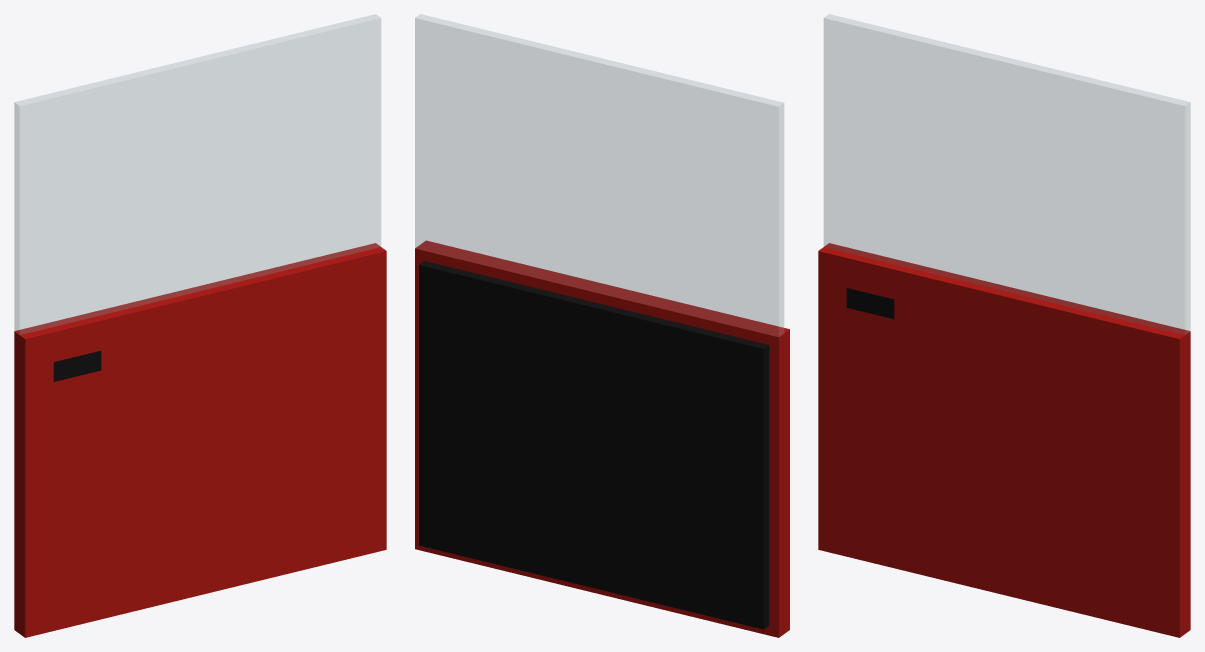
File: fire_engine_crew_door.glb
3 views of the same model, side by side, from view 1: azimuth 30°, elevation 25°; view 2: azimuth 150°, elevation 25°; view 3: azimuth 330°, elevation 25° (orthographic).
Parts seen in each view (by area): view 1: body:compound; view 2: body:compound; view 3: body:compound.
Boxes of the visible parts, box(x1,y1,x2,y2) form: body:compound: box(14, 14, 386, 637); body:compound: box(415, 14, 789, 637); body:compound: box(818, 14, 1190, 637).
Size of the model in its own units: 1.19 by 1.66 by 0.0938.
